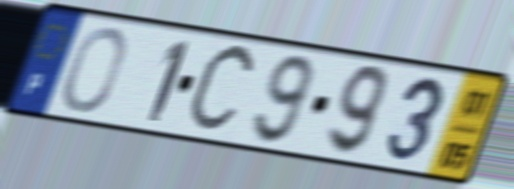1: (146, 39, 191, 124)
3: (381, 75, 449, 168)
9: (249, 52, 317, 149), (323, 63, 391, 159)
C: (182, 40, 262, 139)
O: (60, 24, 129, 115)
